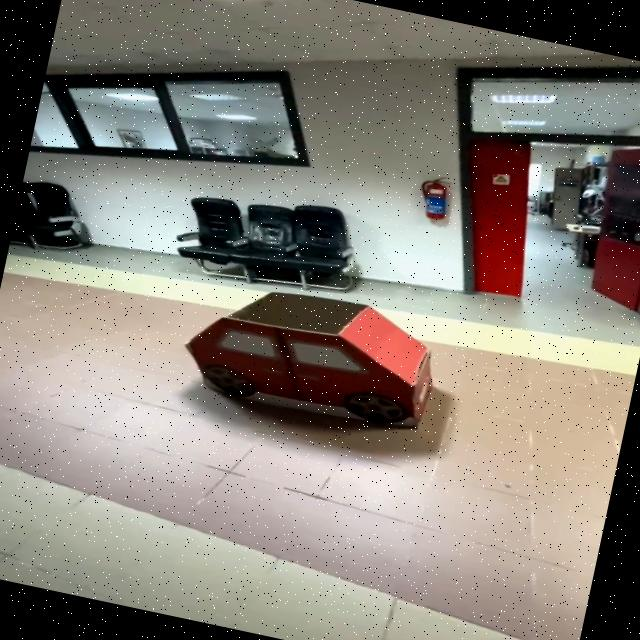red_car: (165, 258, 469, 445)
